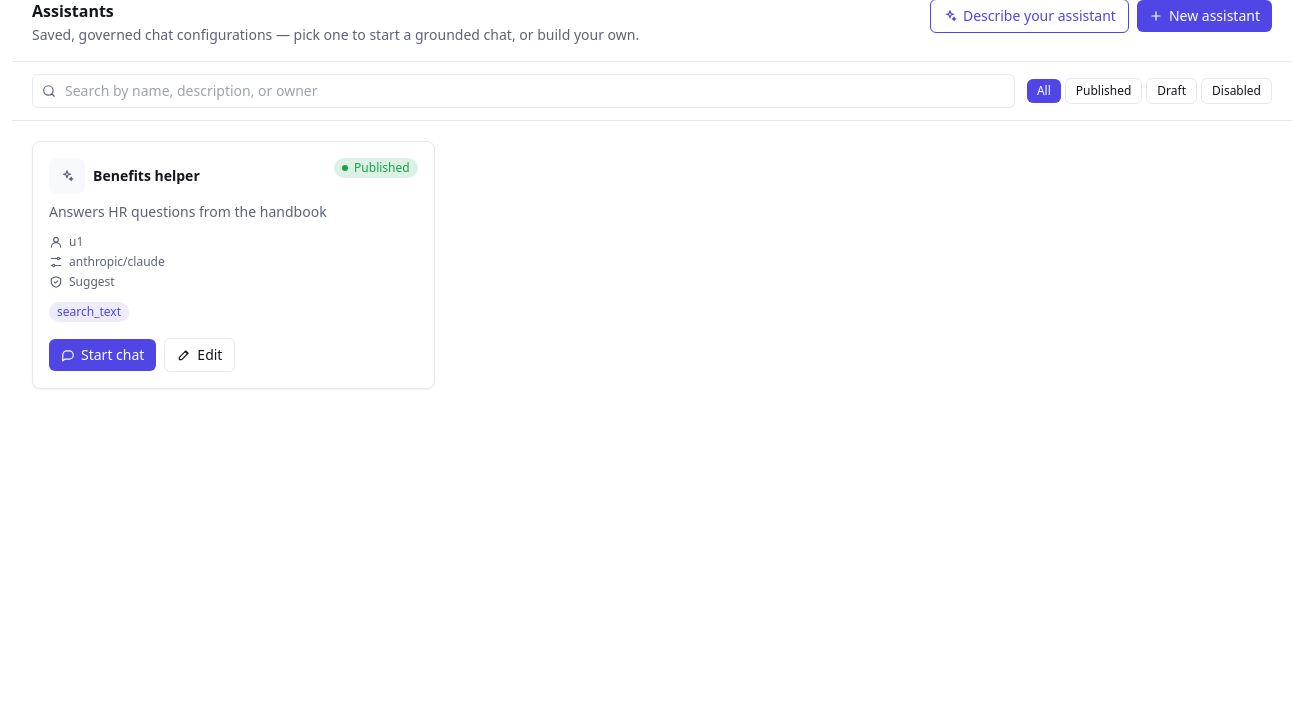
it: AssistantLibrary — Start chat (AC-2) › surfaces a per-card error when create-session fails (404/403 → no crash, AC-5)
Click the button "Start chat" at (103,355), box [49,339,156,371]
(page scrolled)
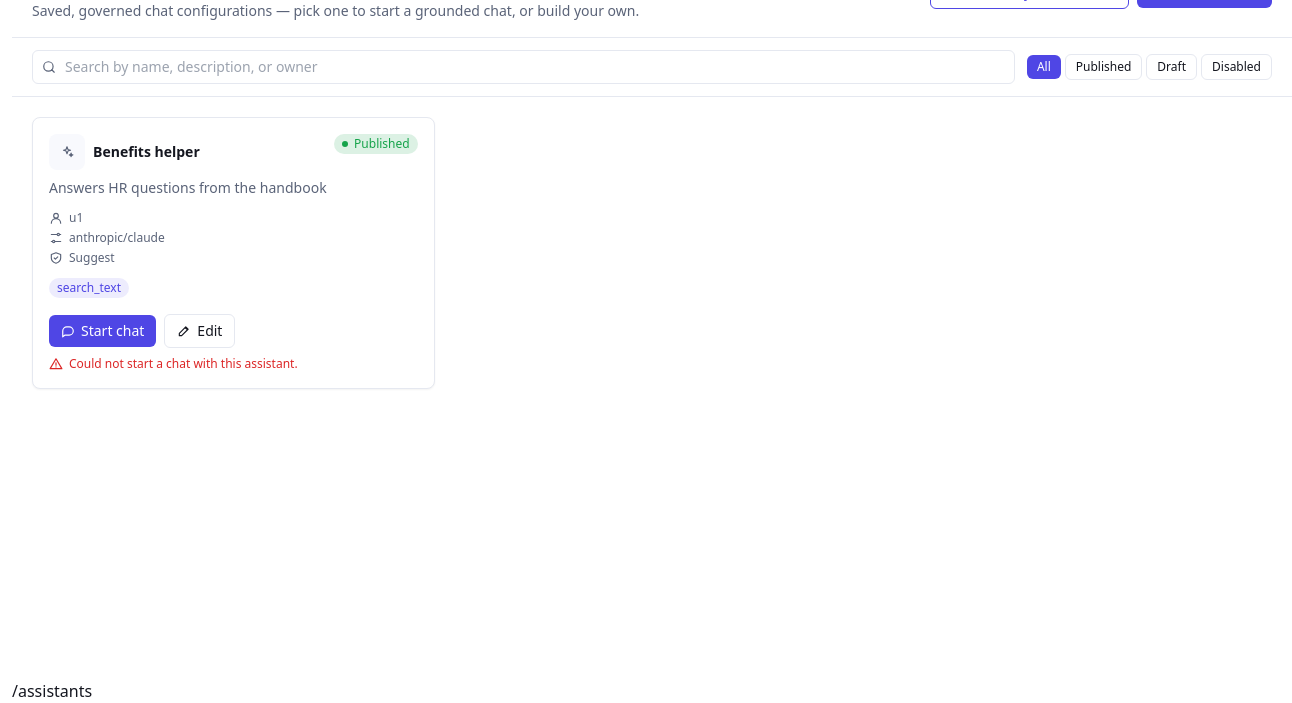
Expected: the text with test id "location" reads "/assistants", [12,680,92,702]
Now the message shows "Could not start a chat", box [69,355,298,372]
